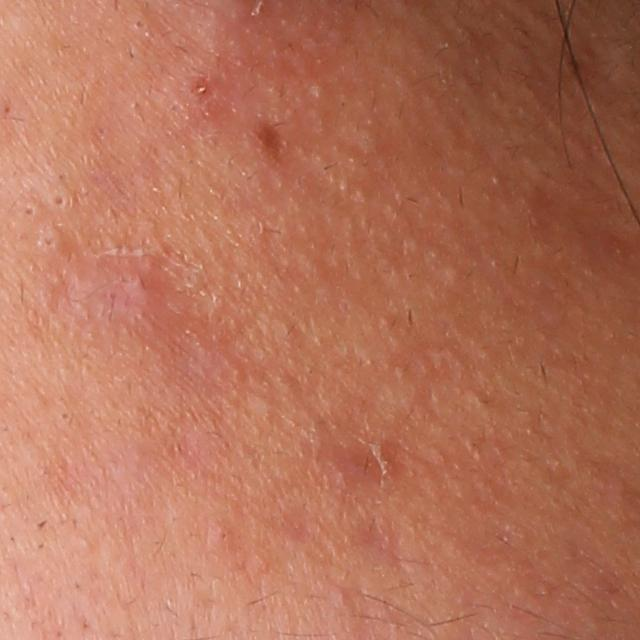comedo: (33, 224, 65, 258), (19, 202, 41, 231), (213, 524, 235, 551), (49, 188, 72, 212), (132, 16, 149, 31), (57, 409, 73, 423)
papule: (116, 266, 159, 305)
